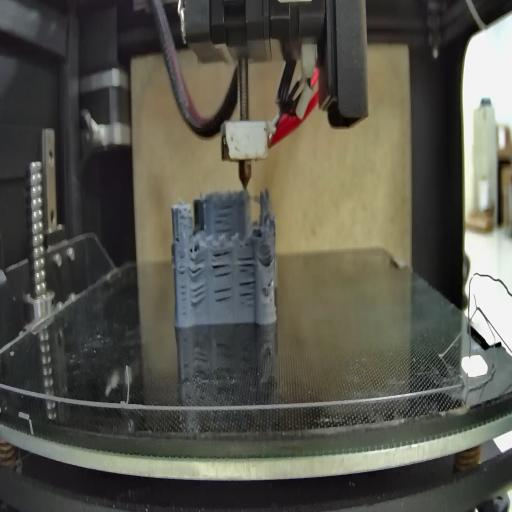cracks: (212, 248, 234, 280), (214, 204, 237, 232), (238, 279, 258, 309), (188, 254, 208, 279), (180, 258, 187, 320), (214, 286, 233, 308), (191, 285, 208, 309), (238, 255, 256, 276), (262, 249, 274, 267), (267, 277, 276, 287), (176, 232, 181, 247)
